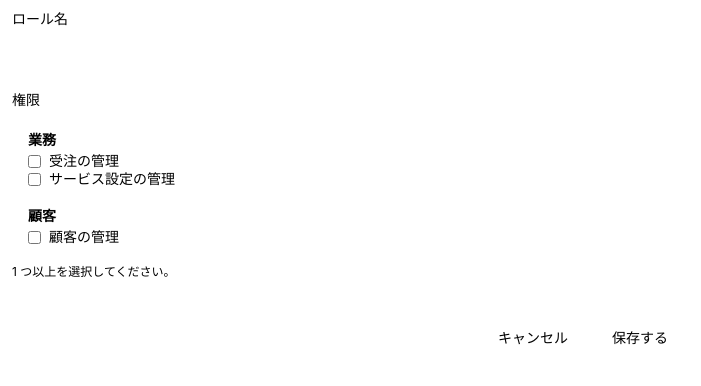
ロールフォーム › ロール名が空なら欄の傍に文言を出して送信しない
Click the checkbox labelled "受注の管理" at [34, 161], box [28, 154, 41, 168]
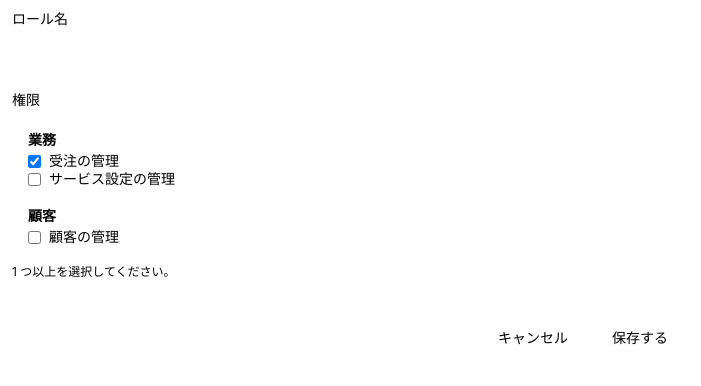
Click the button "保存する" at [640, 338], box [596, 320, 684, 356]
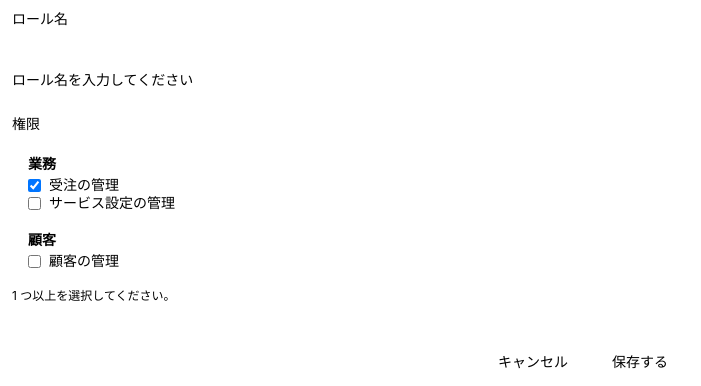
Expected: the text "ロール名を入力してください" is shown, [12, 71, 193, 88]
